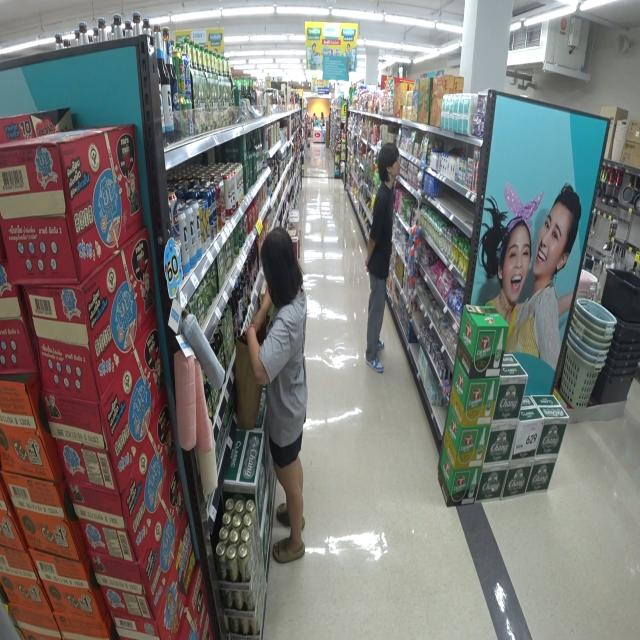shoplifting: (231, 222, 306, 561)
